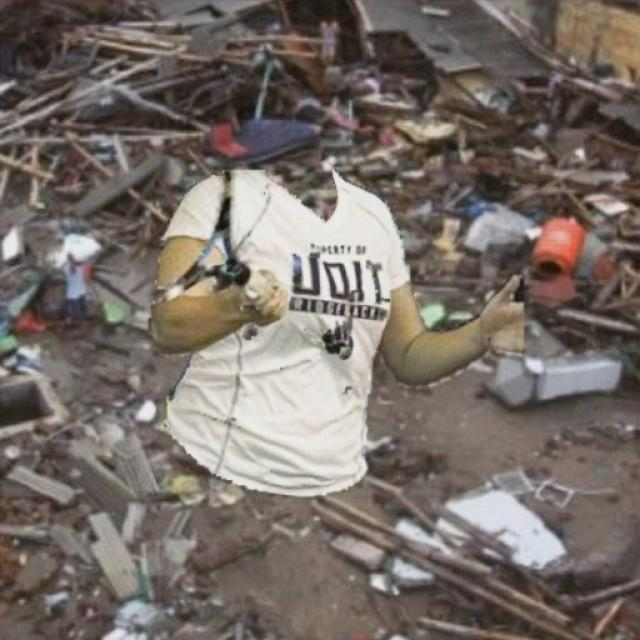Person in Rubble: (148, 170, 522, 495)
